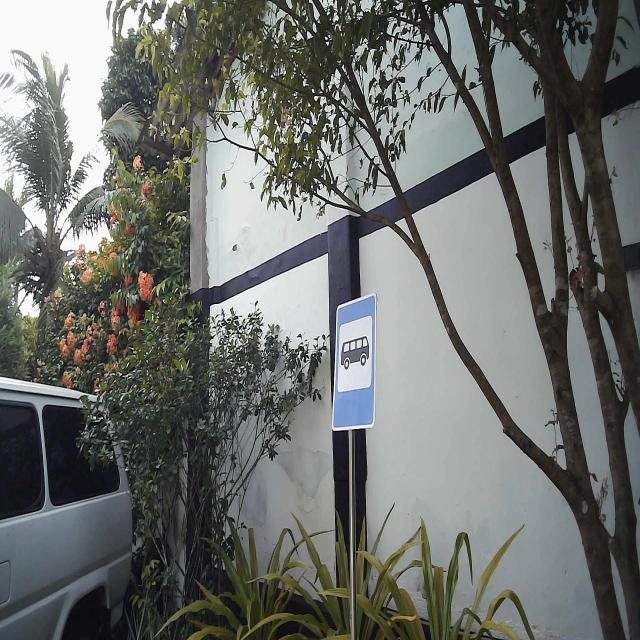bus_stop: (331, 292, 378, 434)
